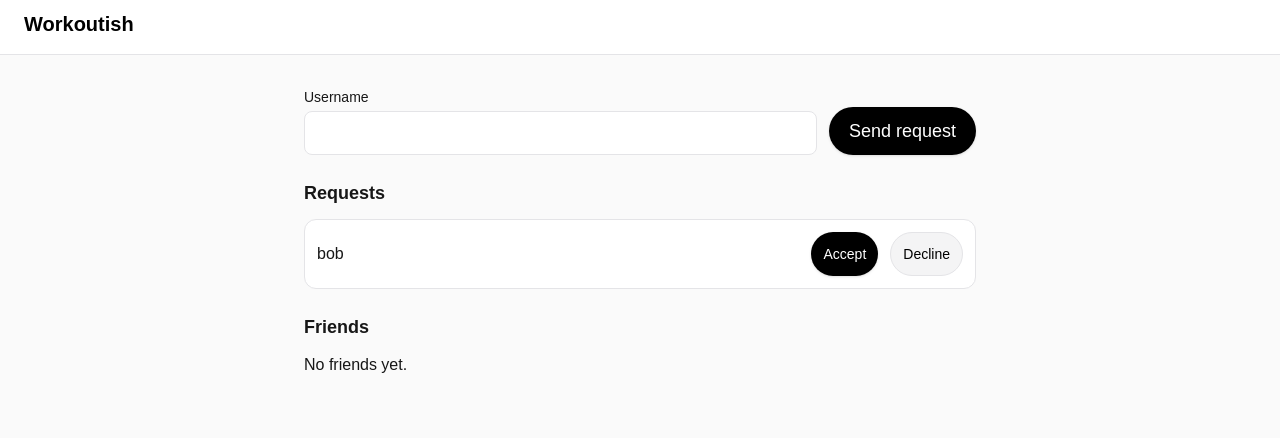
it: a failed mutation keeps the row and shows the generic alert
The width and height of the screenshot is (1280, 438).
Click the button with aria-label "Decline bob" at (927, 254), box [890,232,963,276]
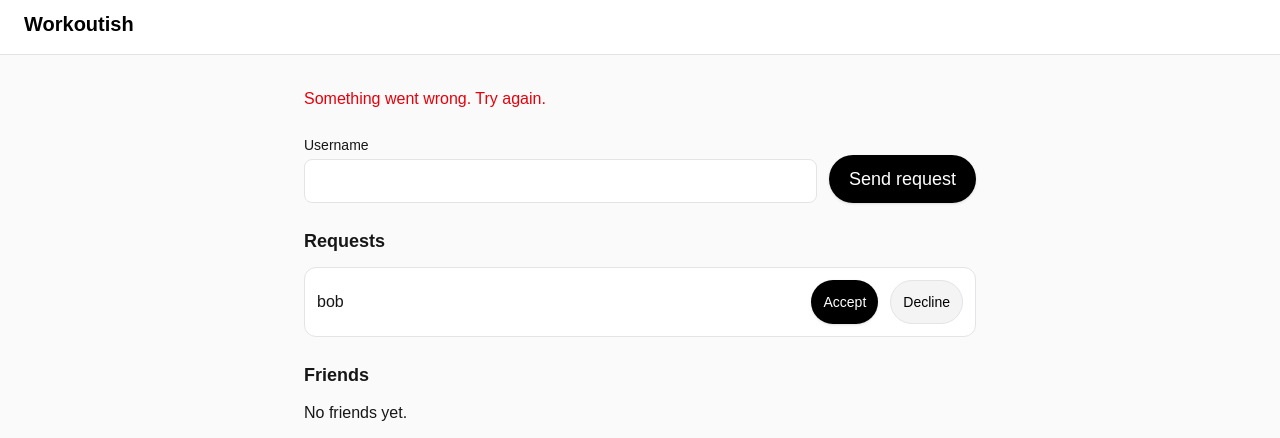
Check: the button with aria-label "Decline bob" is shown, box [890,280,963,324]
Check: the message reads "Something went wrong. Try again.", box [304,90,546,107]
